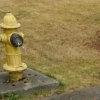a fire hydrant: (1, 6, 26, 76)
